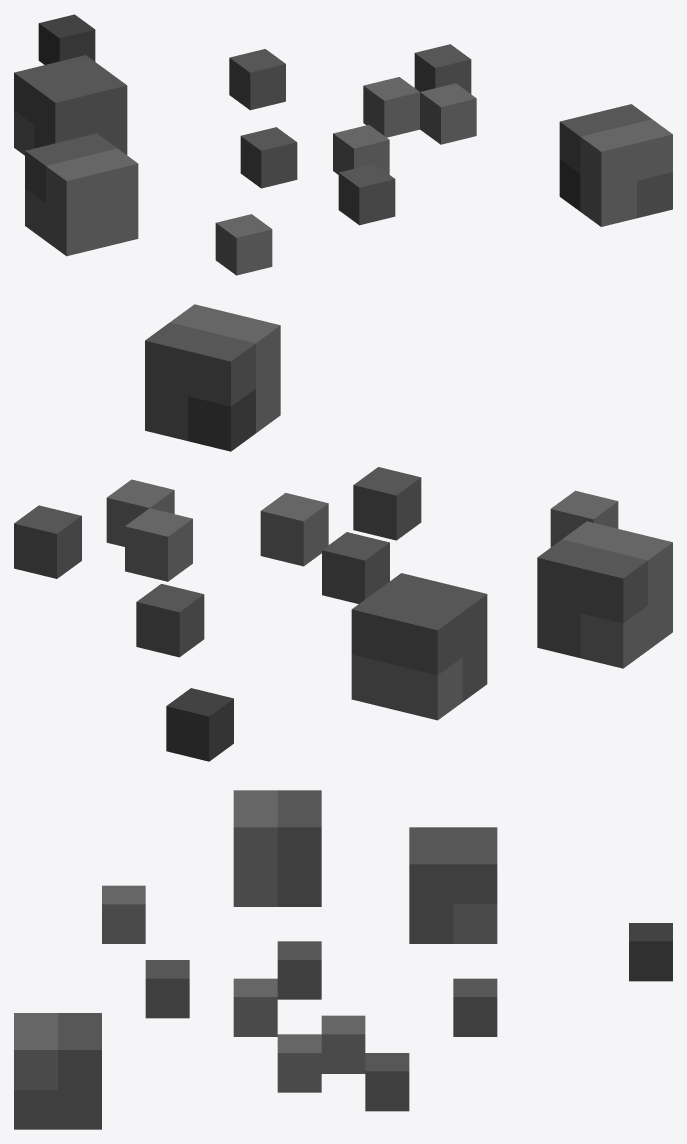
The model's file is Steen5.fbx.
The picture shows the model from 3 angles, top to bottom: view 1: azimuth 30°, elevation 25°; view 2: azimuth 150°, elevation 25°; view 3: azimuth 270°, elevation 25°; orthographic projection. The views are drawn at different scales.
Visible parts, largest first — view 1: Steen5:Steen5; view 2: Steen5:Steen5; view 3: Steen5:Steen5.
Part boxes in pixels (box(x1,y1,x2,y2)): Steen5:Steen5: box(14, 14, 672, 275); Steen5:Steen5: box(14, 304, 672, 761); Steen5:Steen5: box(14, 790, 672, 1129).
Bounding box in the file's own units: 14 × 2 × 15.
1 material, 1 textured.
